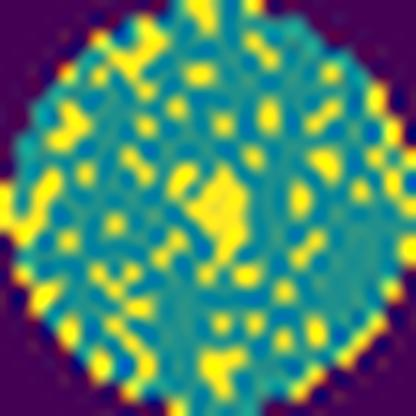Center: (166, 154, 264, 279)
